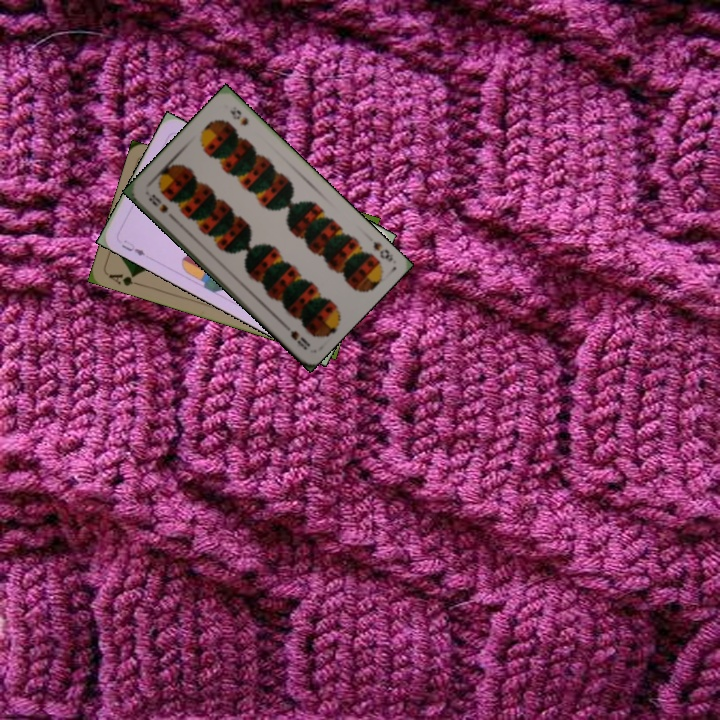EU: (117, 236, 148, 258)
GA: (105, 269, 144, 289)
S8: (369, 237, 396, 265), (145, 190, 171, 216)
